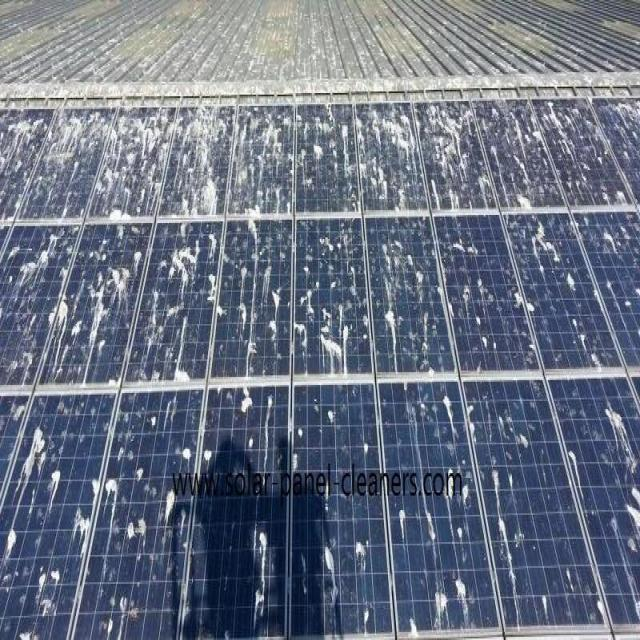soiled: (2, 86, 639, 640)
